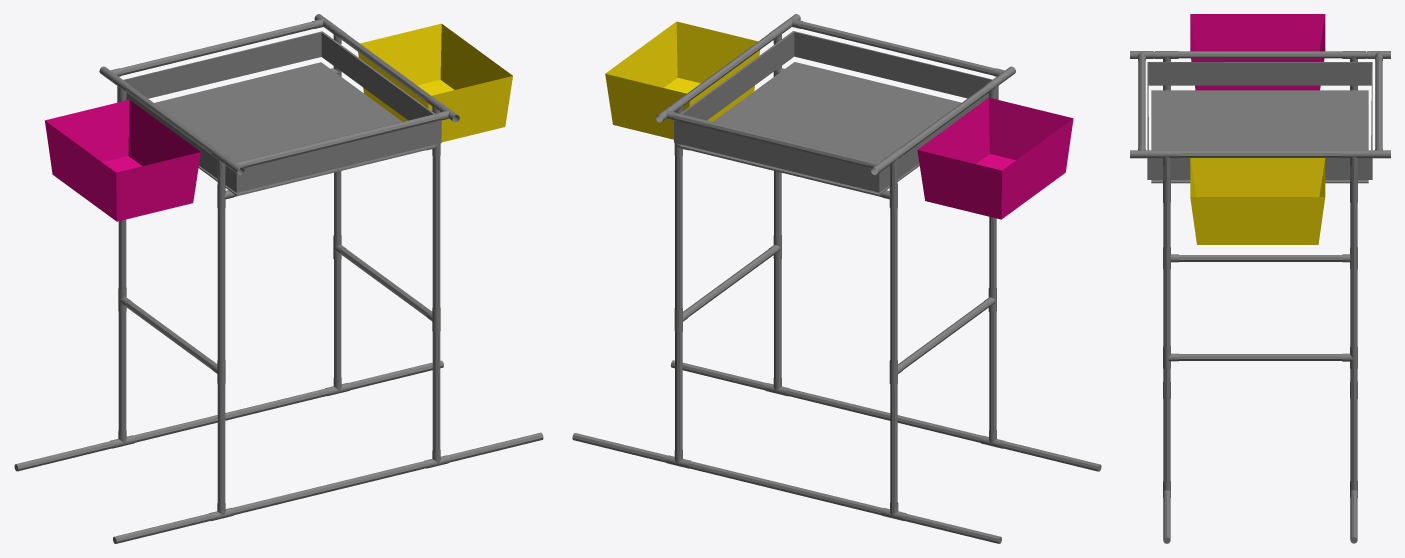
File: collection_table.dae
The picture shows the model from 3 angles, left to right: view 1: azimuth 30°, elevation 25°; view 2: azimuth 150°, elevation 25°; view 3: azimuth 270°, elevation 25°; orthographic projection. The views are drawn at different scales.
Parts seen in each view (by area): view 1: Cube.005, Cube.003, Cube.002; view 2: Cube.005, Cube.003, Cube.002; view 3: Cube.005, Cube.002, Cube.003.
Boxes of the visible parts, x1,y1,x2,y2 form: Cube.005: [14, 14, 543, 543]; Cube.003: [45, 99, 200, 221]; Cube.002: [358, 23, 512, 142]; Cube.005: [572, 14, 1101, 543]; Cube.003: [917, 97, 1073, 219]; Cube.002: [605, 21, 760, 139]; Cube.005: [1130, 51, 1390, 543]; Cube.002: [1190, 158, 1325, 244]; Cube.003: [1190, 14, 1325, 90].
Size of the model in its own units: 1.18 by 0.6621 by 0.9667.
